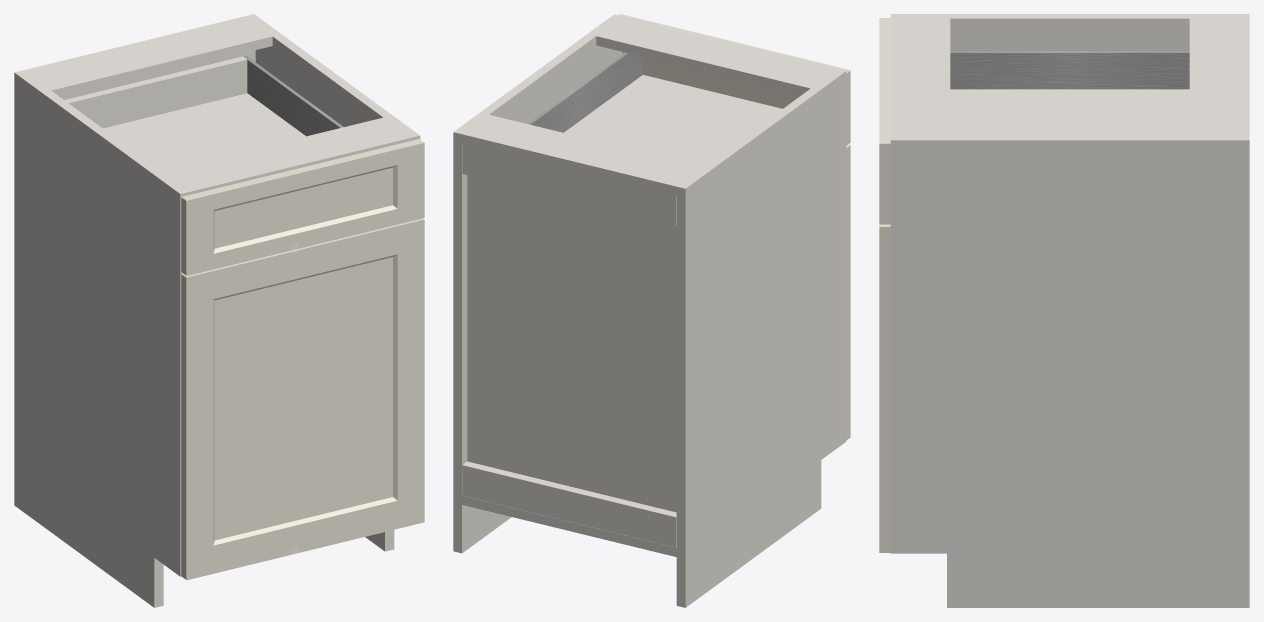
The model's file is 1_Door-1_Drawer.glb.
3 renders of one model, left to right at view 1: azimuth 30°, elevation 25°; view 2: azimuth 150°, elevation 25°; view 3: azimuth 270°, elevation 25°, orthographic. The views are drawn at different scales.
Parts seen in each view (by area): view 1: Geom3D_Door(L), Geom3D_UEnd (L)-A (×2), Geom3D_Drawer, Geom3D_Drw Bottom, Geom3D_Rear Stretcher-D, Geom3D_Front Stretcher-E (×2), Geom3D_Drw Back (×2), Geom3D_UEnd (R)-G, Geom3D_Drw R Side, Geom3D_UBack-C; view 2: Geom3D_UEnd (L)-A, Geom3D_UBack-C, Geom3D_Nailer-H (×2), Geom3D_UEnd (R)-G, Geom3D_Drw Bottom, Geom3D_Rear Stretcher-D, Geom3D_Front Stretcher-E, Geom3D_Drawer, Geom3D_Drw R Side, Geom3D_Bottom-B, Geom3D_Door(L); view 3: Geom3D_UEnd (R)-G, Geom3D_Drw Bottom, Geom3D_UEnd (L)-A, Geom3D_Drw L Side, Geom3D_Rear Stretcher-D, Geom3D_Front Stretcher-E, Geom3D_Door(L), Geom3D_Drawer.
Boxes of the visible parts, left/top/right/bottom form: Geom3D_Door(L): left=181, top=218, right=424, bottom=580; Geom3D_UEnd (L)-A (×2): left=14, top=70, right=189, bottom=607; Geom3D_Drawer: left=181, top=139, right=424, bottom=275; Geom3D_Drw Bottom: left=103, top=93, right=305, bottom=171; Geom3D_Rear Stretcher-D: left=24, top=16, right=272, bottom=97; Geom3D_Front Stretcher-E (×2): left=162, top=117, right=410, bottom=194; Geom3D_Drw Back (×2): left=64, top=56, right=247, bottom=128; Geom3D_UEnd (R)-G: left=245, top=14, right=419, bottom=551; Geom3D_Drw R Side: left=243, top=55, right=343, bottom=136; Geom3D_UBack-C: left=61, top=50, right=255, bottom=99; Geom3D_UEnd (L)-A: left=676, top=69, right=846, bottom=607; Geom3D_UBack-C: left=467, top=175, right=676, bottom=512; Geom3D_Nailer-H (×2): left=462, top=143, right=676, bottom=547; Geom3D_UEnd (R)-G: left=453, top=14, right=622, bottom=553; Geom3D_Drw Bottom: left=564, top=75, right=782, bottom=166; Geom3D_Rear Stretcher-D: left=462, top=114, right=702, bottom=195; Geom3D_Front Stretcher-E: left=596, top=16, right=836, bottom=95; Geom3D_Drawer: left=618, top=14, right=850, bottom=145; Geom3D_Drw R Side: left=527, top=52, right=642, bottom=132; Geom3D_Bottom-B: left=462, top=495, right=680, bottom=557; Geom3D_Door(L): left=846, top=144, right=850, bottom=440; Geom3D_UEnd (R)-G: left=890, top=135, right=1249, bottom=607; Geom3D_Drw Bottom: left=950, top=89, right=1189, bottom=135; Geom3D_UEnd (L)-A: left=890, top=14, right=1249, bottom=51; Geom3D_Drw L Side: left=950, top=51, right=1189, bottom=89; Geom3D_Rear Stretcher-D: left=1189, top=18, right=1249, bottom=135; Geom3D_Front Stretcher-E: left=890, top=18, right=950, bottom=135; Geom3D_Door(L): left=879, top=224, right=890, bottom=552; Geom3D_Drawer: left=879, top=18, right=890, bottom=224.
Bounding box in the file's own units: 0.508 × 0.8763 × 0.6286.
3 materials, 3 textured.
